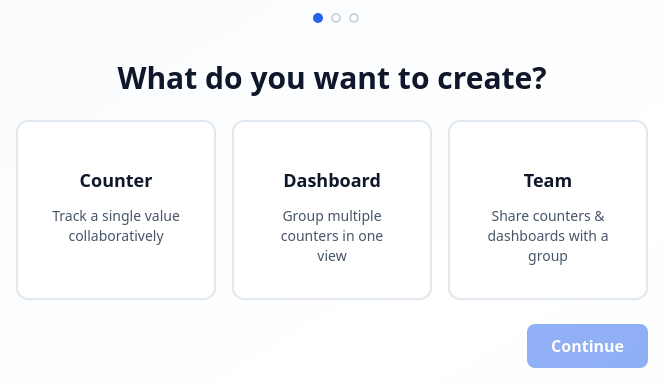
it: Create page › owner step › is skipped when the user has no teams
Click the button "Counter Track a single value collaboratively".
click(116, 210)  # box 16,120 -> 216,300
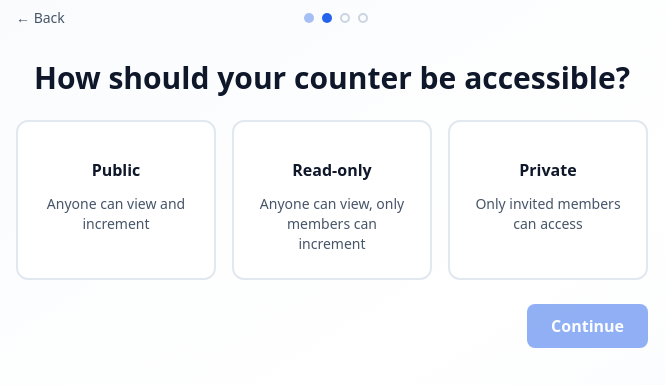
Expected: the number of headings is 1, 16,60 -> 648,96
Expected: the heading shows "How should your counter be accessible", 34,57 -> 630,98
